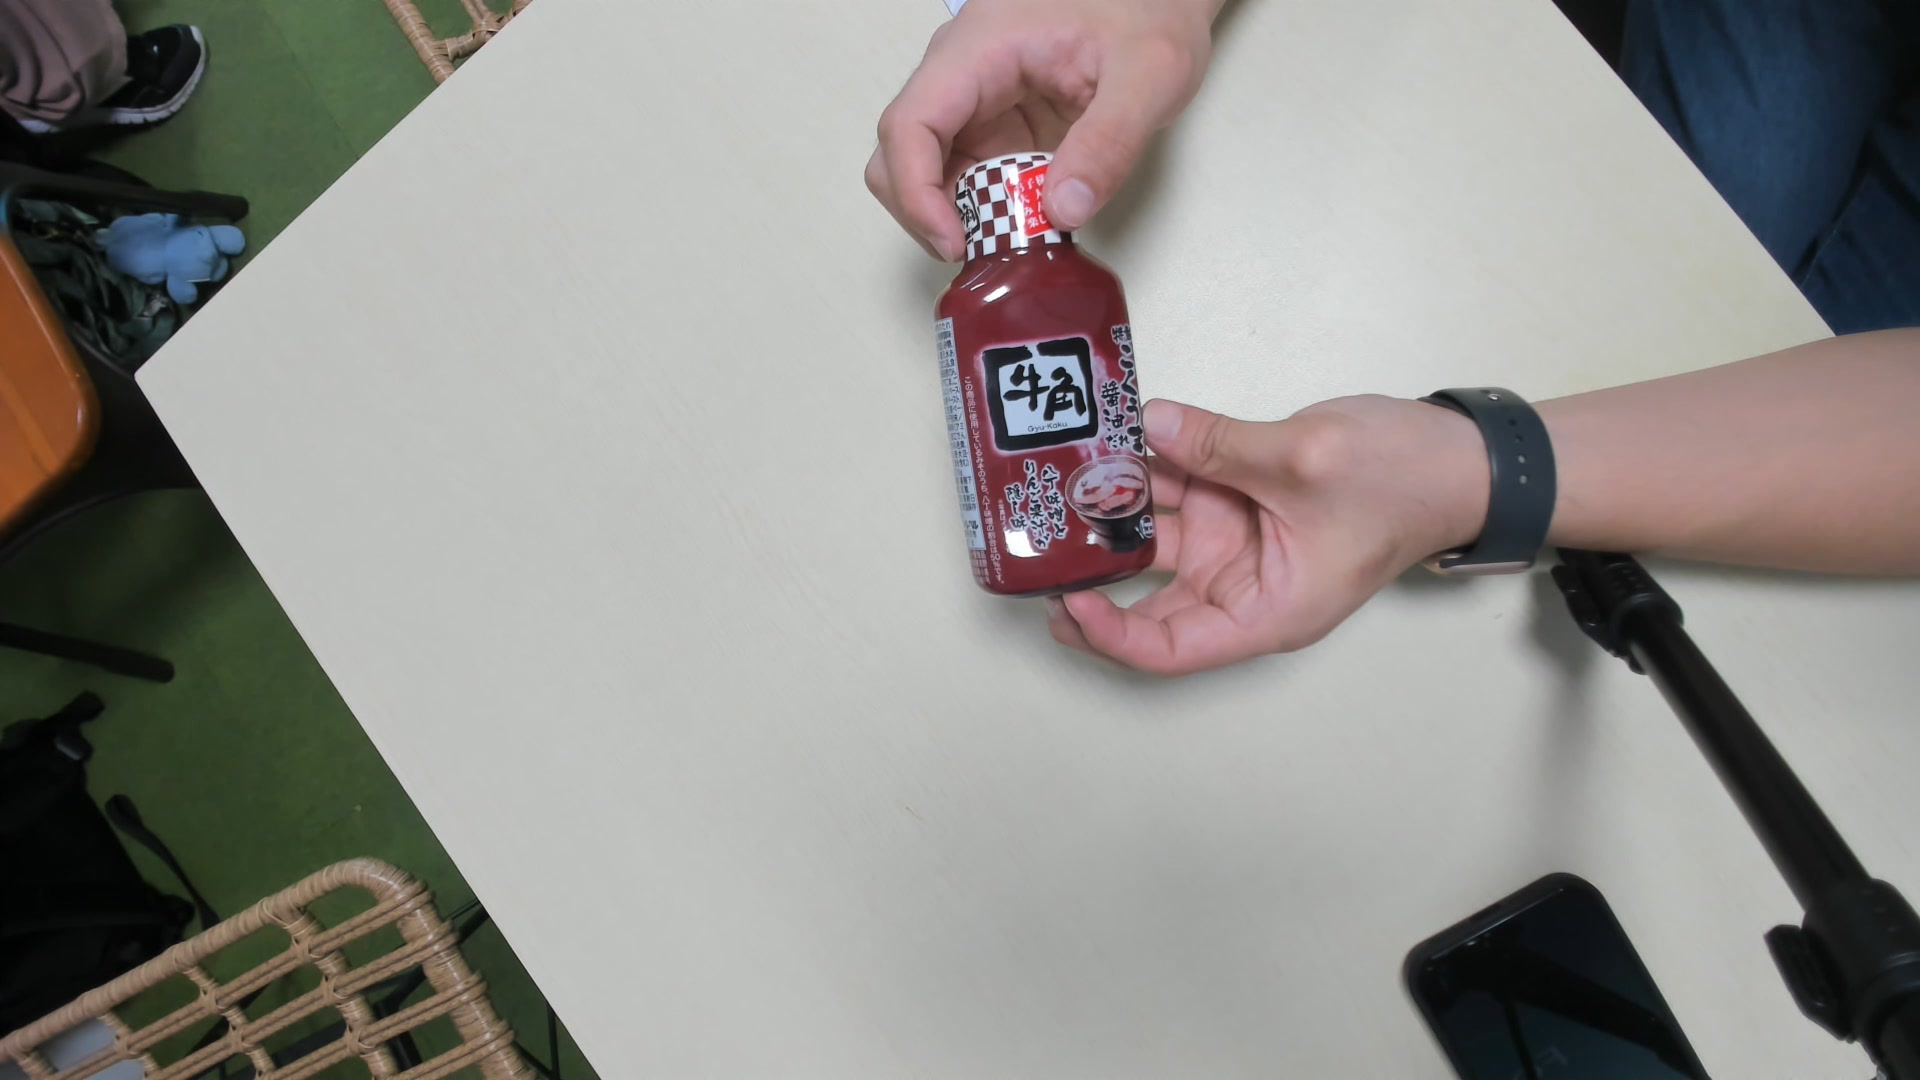OtherSauceDressing_200-299g_NonHalal_NonHealthy: (938, 145, 1155, 607)
